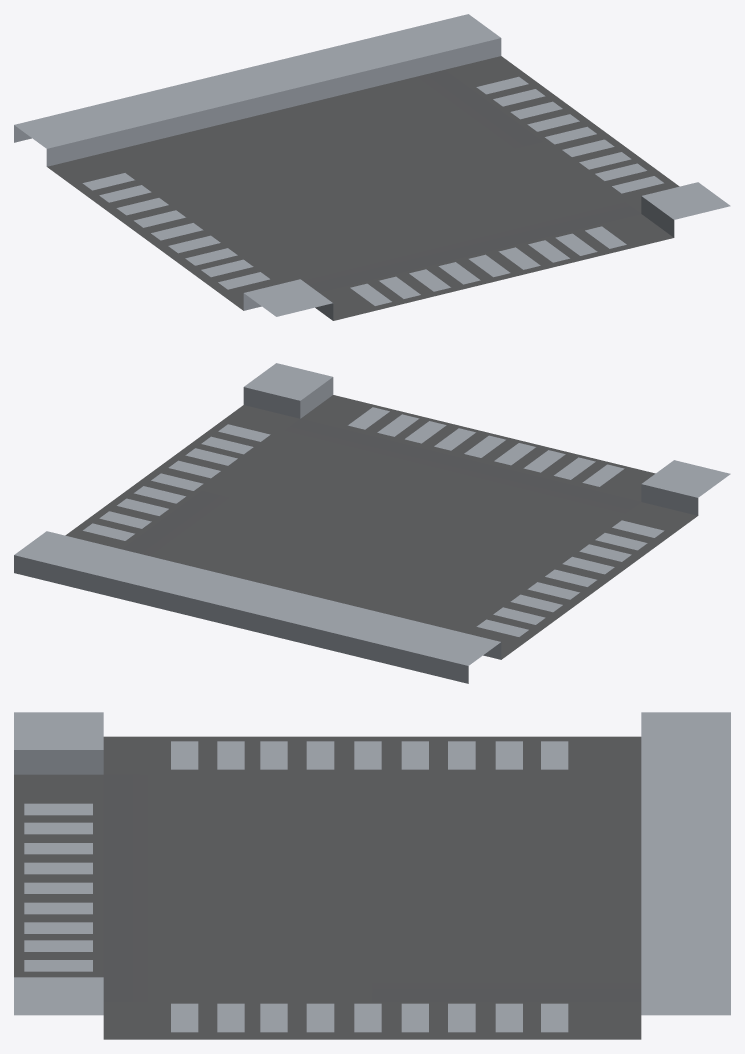
File: Road_Style4.fbx
3 renders of one model, top to bottom at view 1: azimuth 30°, elevation 25°; view 2: azimuth 150°, elevation 25°; view 3: azimuth 270°, elevation 25°, orthographic. The views are drawn at different scales.
Parts seen in each view (by area): view 1: Road_Style4; view 2: Road_Style4; view 3: Road_Style4.
Boxes of the visible parts, x1=… form: Road_Style4: x1=14, y1=14, x2=730, y2=320; Road_Style4: x1=14, y1=363, x2=730, y2=683; Road_Style4: x1=14, y1=712, x2=730, y2=1039.
Size of the model in its own units: 2650 by 100 by 2650.
